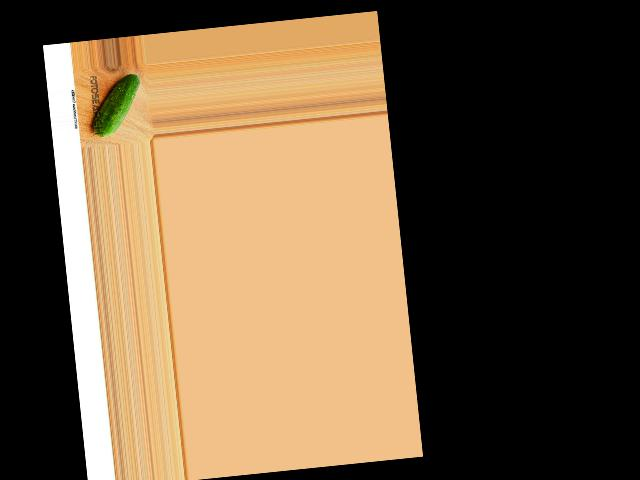cucumber: (87, 73, 145, 139)
